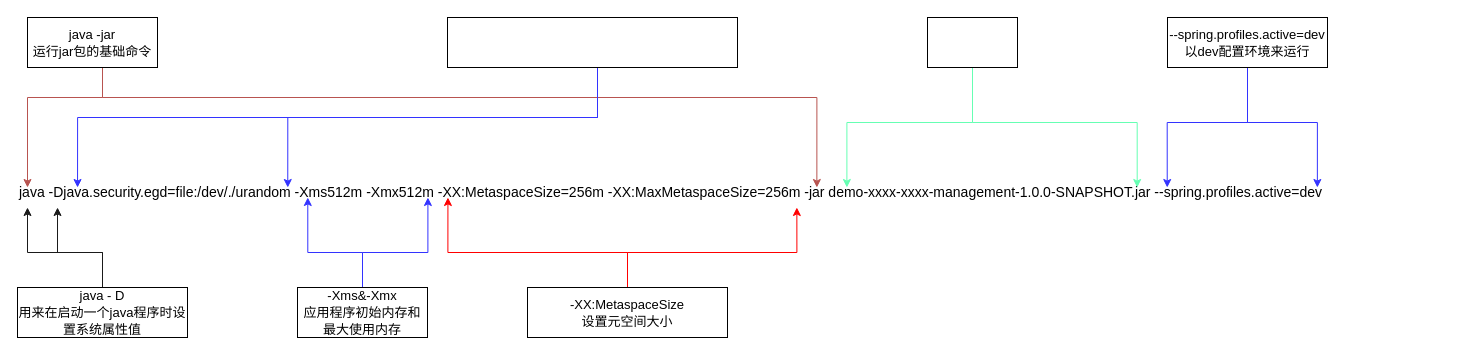
Some shapes in this 1465 by 355 pixel diagram are drawn without their labels. Each missing label, with the centre of its shape:
"jar包" goes at [972,42].
"java.security.egd=file:/dev/./urandom 用来减少tomcat启动时所需要生成随机数的时间" goes at [592,42].
